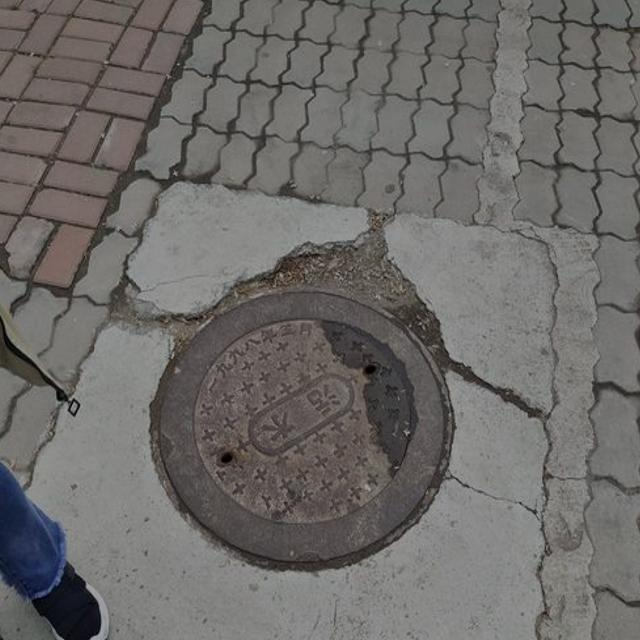circle: (91, 220, 530, 617)
